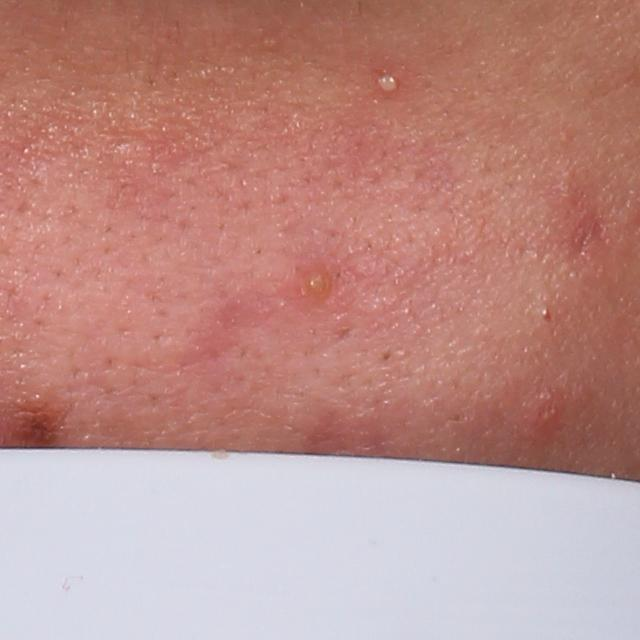papule: (525, 396, 563, 436)
pustule: (291, 260, 346, 305)
